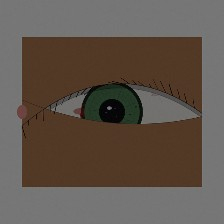hemorrhage_spot: (70, 85, 146, 146)
